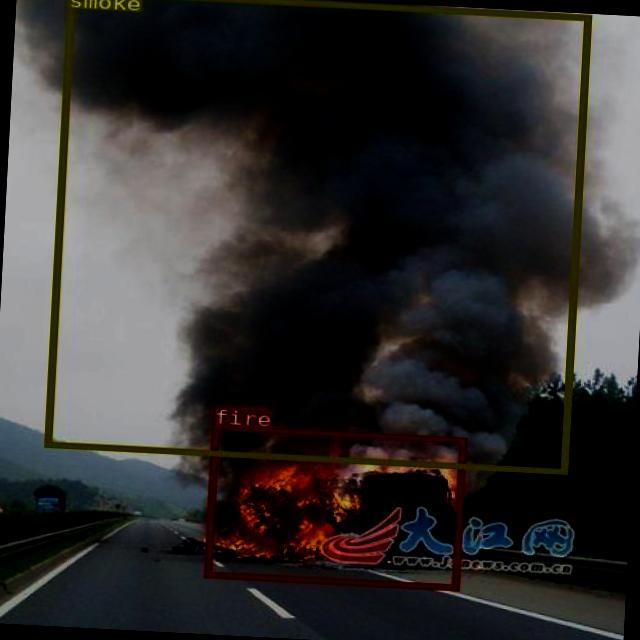fire: (203, 424, 466, 589)
smoke: (43, 0, 590, 473)
